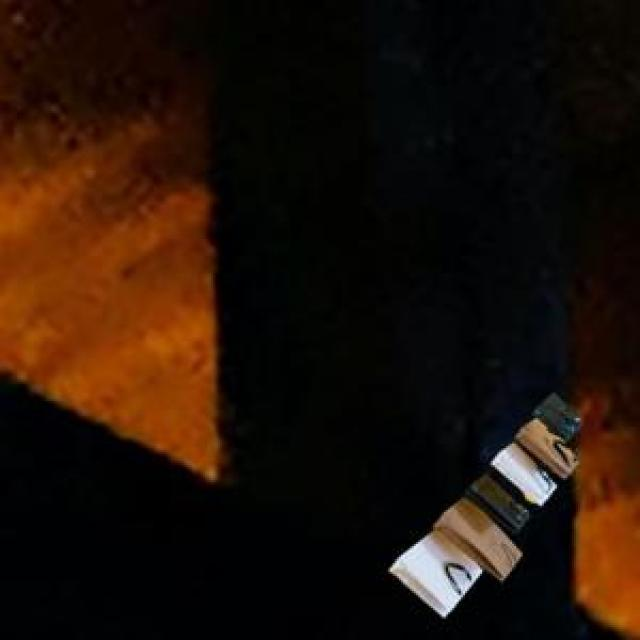paper: (386, 388, 578, 612)
